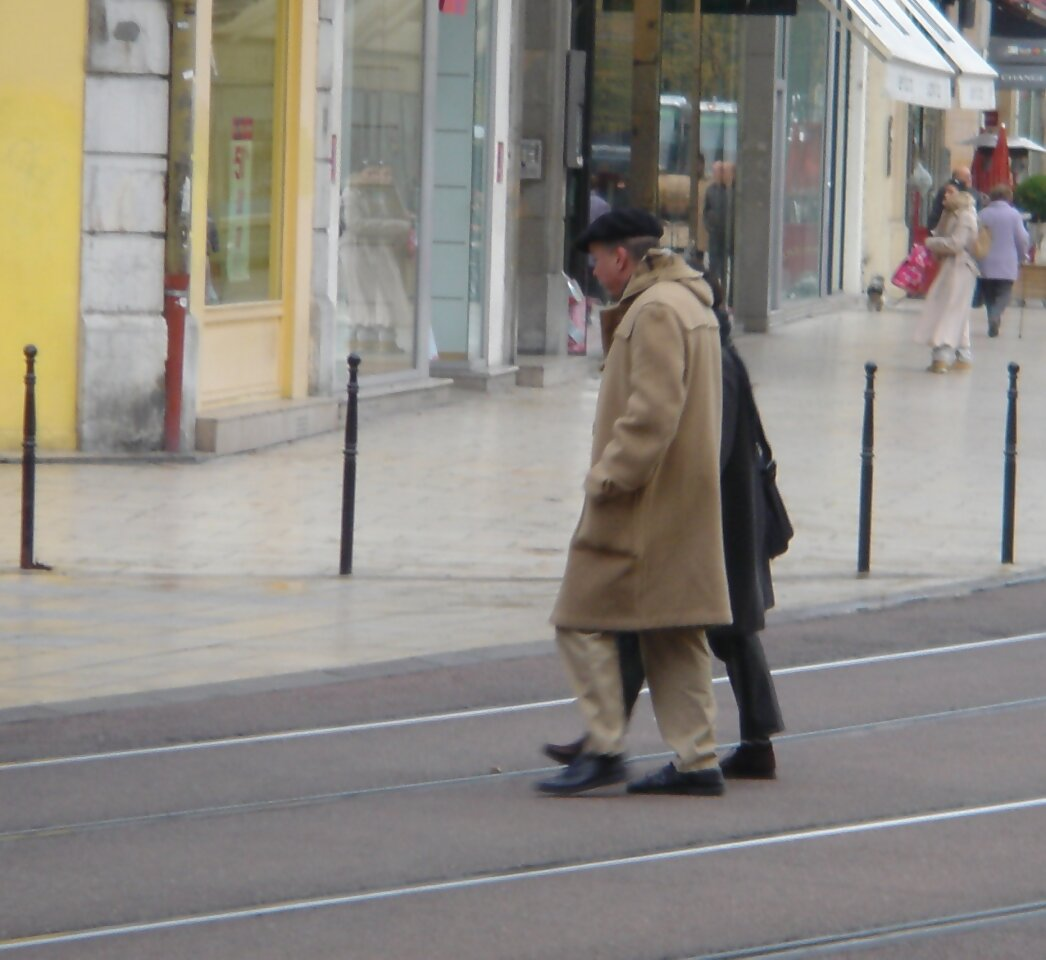person: (536, 201, 788, 815), (891, 163, 992, 378)
